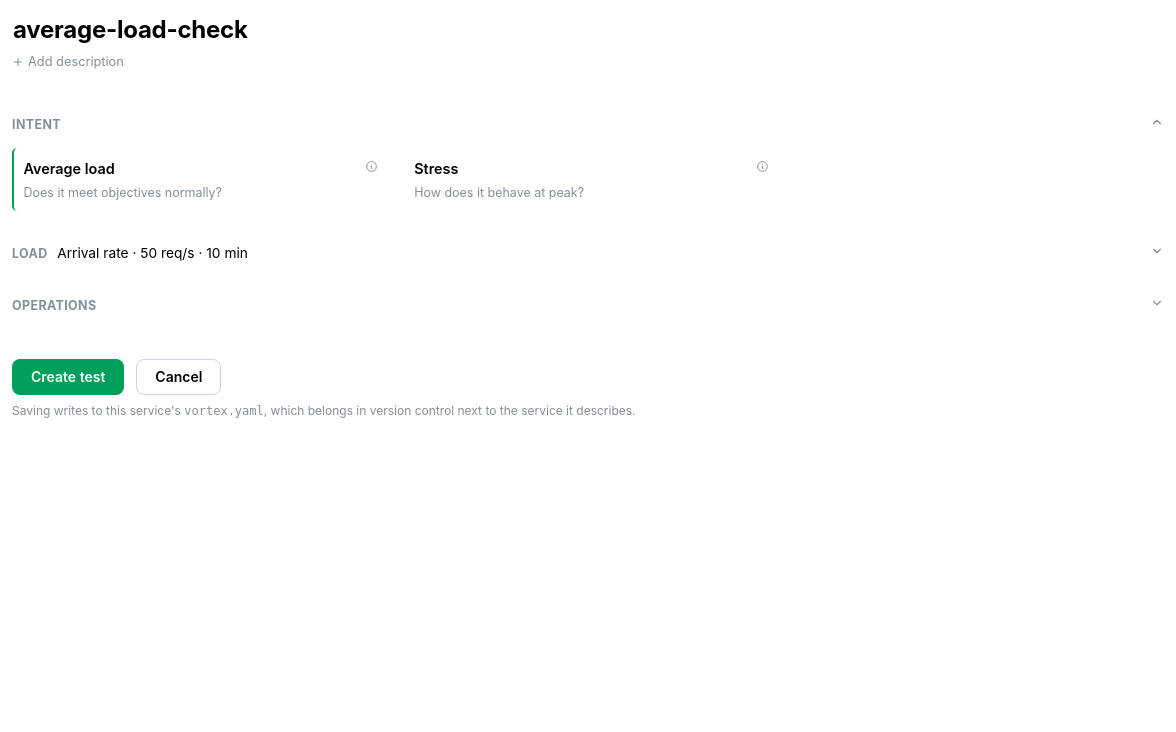
Scenario: the inline test composer › offers "Use recommended" and applies the domain's own numbers into the form
Step 1. Click the text "Load" → (30, 253), box left=12, top=244, right=48, bottom=263
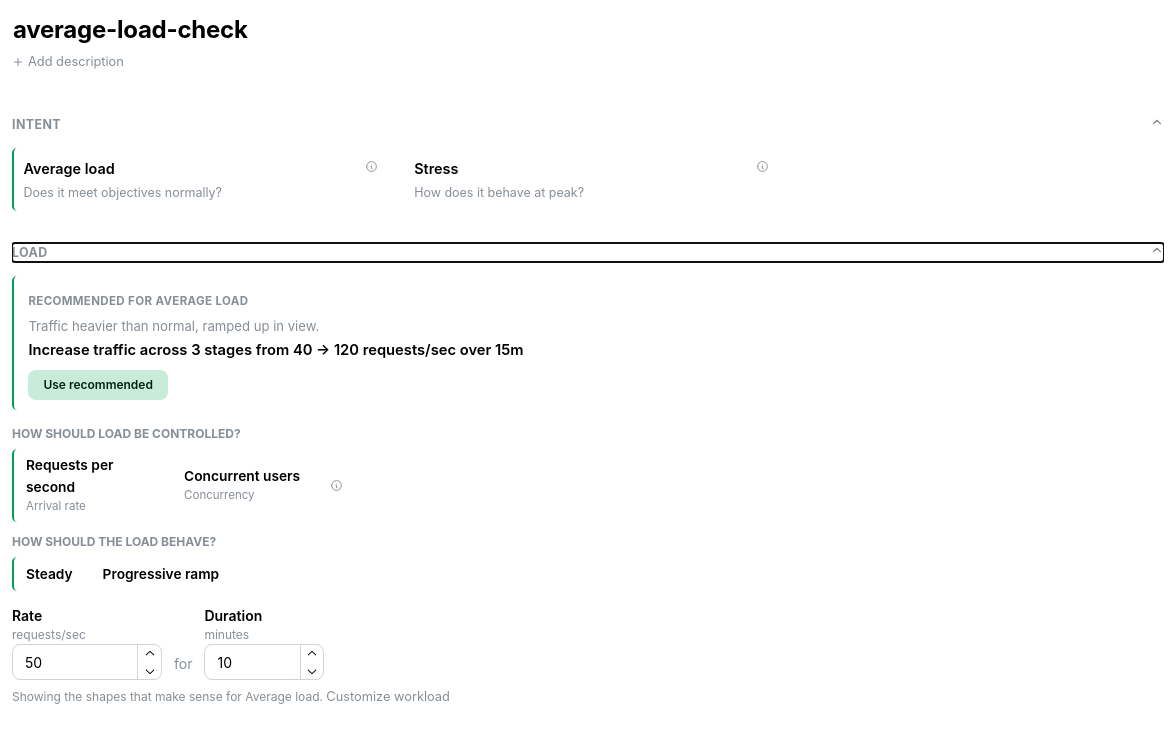
Now the text "Recommended for Average load" is shown, box left=28, top=294, right=248, bottom=308
Now the text "Increase traffic across 3 stages from 40 → 120 requests/sec over 15m" is shown, box left=28, top=341, right=524, bottom=359
Step 2. Click the button "Use recommended" → (98, 385), box left=28, top=370, right=168, bottom=400
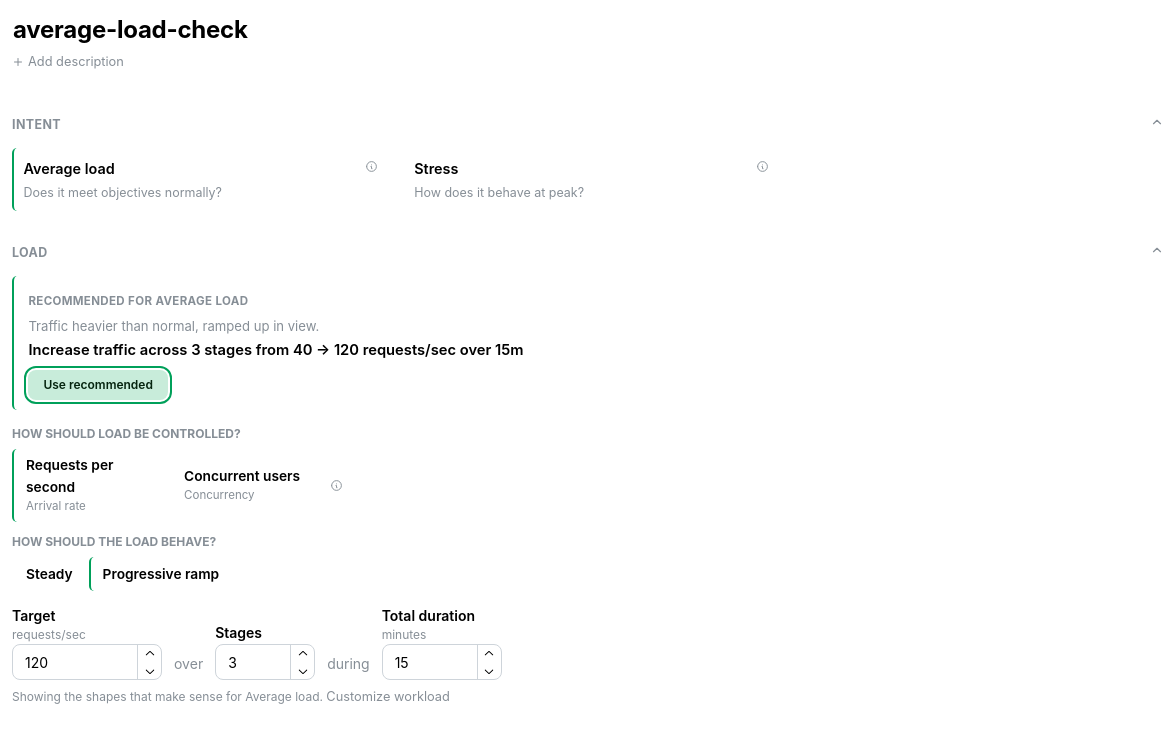
Now the field showing "120" is shown, box left=12, top=644, right=162, bottom=680
Now the field showing "3" is shown, box left=215, top=644, right=315, bottom=680
Now the field showing "15" is shown, box left=382, top=644, right=502, bottom=680
